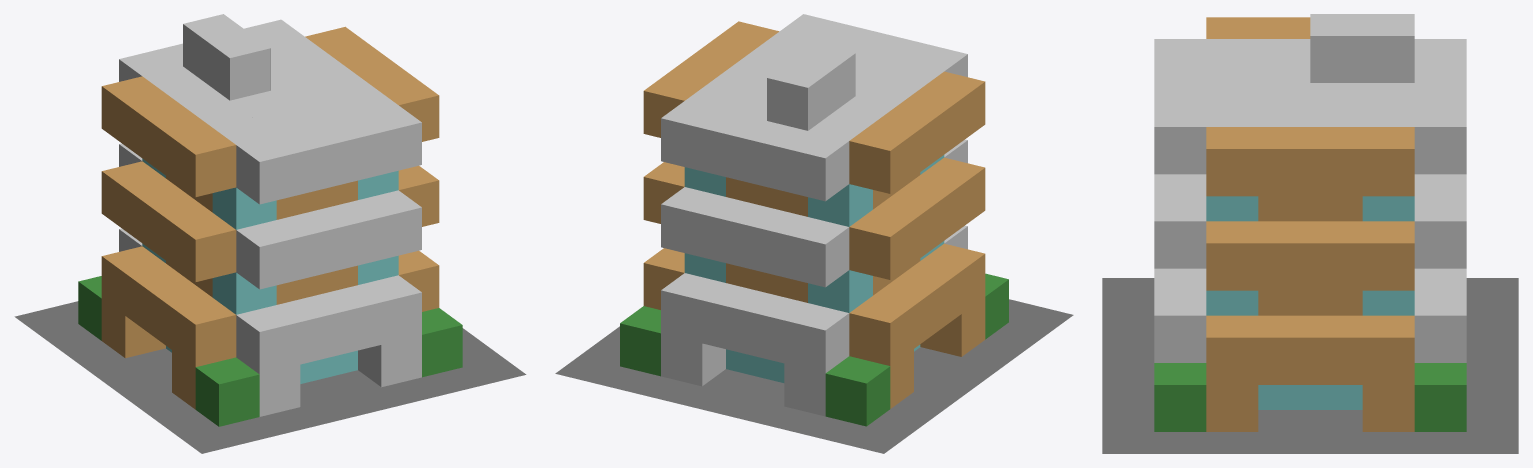
File: Apartment.fbx
3 renders of one model, left to right at view 1: azimuth 30°, elevation 25°; view 2: azimuth 150°, elevation 25°; view 3: azimuth 270°, elevation 25°, orthographic. The views are drawn at different scales.
Visible parts, largest first — view 1: Plane, Cube.087, Cube.099, Cube.033, Cube.001, Cube.079, Cube.062, Cube.052, Cube.020, Cube.050, Cube.089, Cube.036 (+52 smaller); view 2: Plane, Cube, Cube.085, Cube.056, Cube.053, Cube.094, Cube.080, Cube.061, Cube.021, Cube.086, Cube.055, Cube.054 (+51 smaller); view 3: Plane, Cube.083, Cube.060, Cube.059, Cube.058, Cube.057, Cube.055, Cube.051, Cube.043, Cube.088, Cube.086, Cube.084 (+47 smaller).
Part boxes in pixels (<box>): Plane: <box>14,301,526,453</box>; Cube.087: <box>236,135,300,204</box>; Cube.099: <box>206,31,270,100</box>; Cube.033: <box>236,305,300,374</box>; Cube.001: <box>195,357,259,426</box>; Cube.079: <box>172,128,236,197</box>; Cube.062: <box>172,212,236,282</box>; Cube.052: <box>236,220,300,289</box>; Cube.020: <box>172,297,236,367</box>; Cube.050: <box>317,200,381,269</box>; Cube.089: <box>317,115,381,184</box>; Cube.036: <box>318,285,381,354</box>; Plane: <box>555,299,1073,453</box>; Cube: <box>825,356,890,426</box>; Cube.085: <box>784,131,849,201</box>; Cube.056: <box>784,217,849,287</box>; Cube.053: <box>784,303,849,373</box>; Cube.094: <box>767,60,831,130</box>; Cube.080: <box>849,123,913,193</box>; Cube.061: <box>849,209,913,279</box>; Cube.021: <box>849,296,913,365</box>; Cube.086: <box>661,101,725,170</box>; Cube.055: <box>661,187,725,257</box>; Cube.054: <box>661,273,725,343</box>; Plane: <box>1102,278,1518,453</box>; Cube.083: <box>1310,127,1362,196</box>; Cube.060: <box>1362,221,1414,290</box>; Cube.059: <box>1206,221,1258,290</box>; Cube.058: <box>1310,221,1362,290</box>; Cube.057: <box>1258,221,1310,290</box>; Cube.055: <box>1414,199,1466,268</box>; Cube.051: <box>1154,199,1206,268</box>; Cube.043: <box>1310,315,1362,384</box>; Cube.088: <box>1154,105,1206,174</box>; Cube.086: <box>1414,105,1466,174</box>; Cube.084: <box>1258,127,1310,196</box>.
Size of the model in its own units: 800 by 800 by 700.
